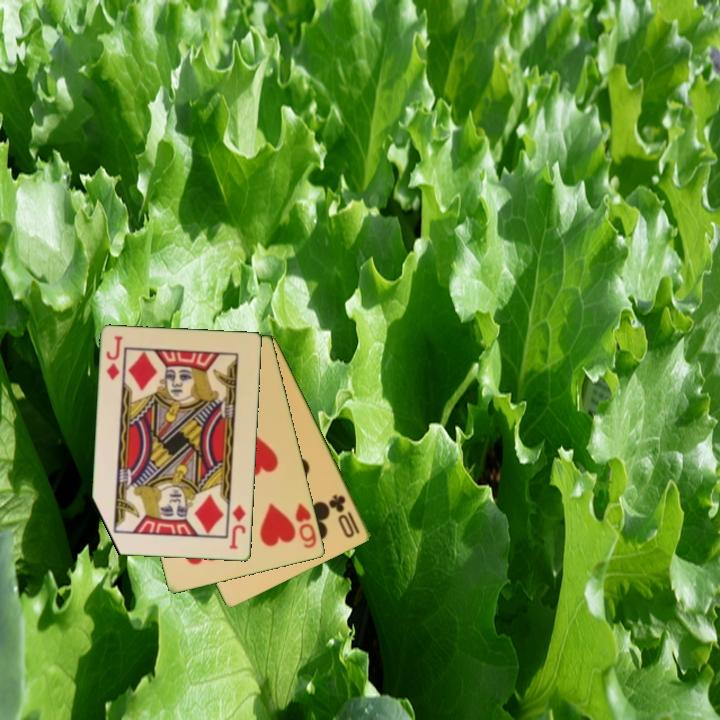10c: (326, 491, 363, 541)
6h: (292, 500, 320, 551)
Jd: (226, 501, 249, 552), (103, 332, 126, 383)
